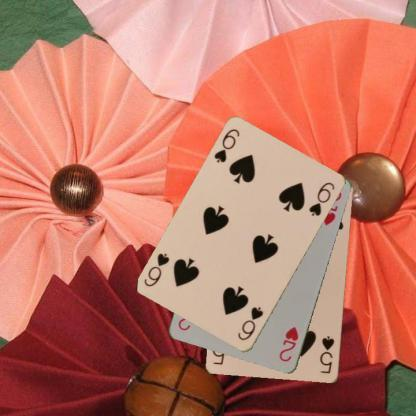2h: (277, 325, 300, 363)
5s: (318, 333, 336, 375)
6s: (235, 304, 265, 342), (211, 126, 240, 164)
